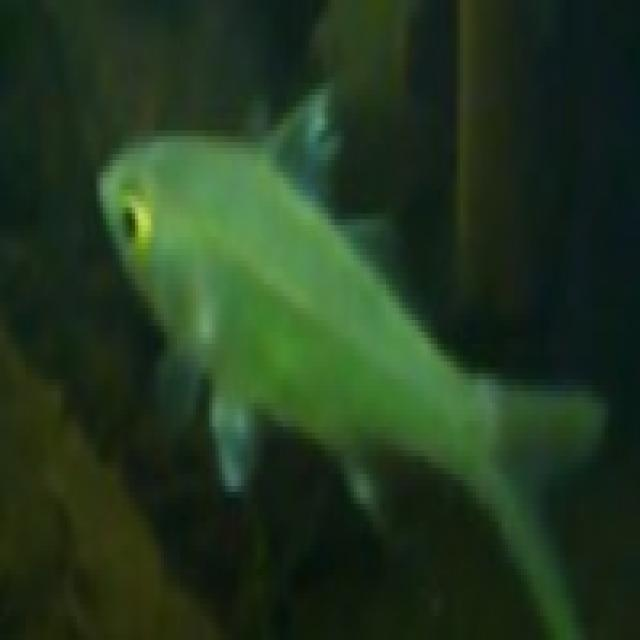Glass-Perchlet: (71, 62, 612, 616)
